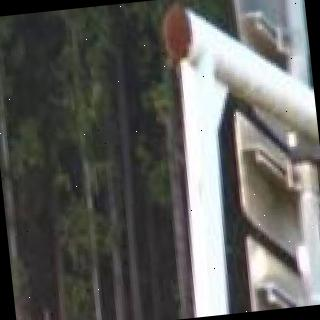fire: (7, 238, 24, 320)
